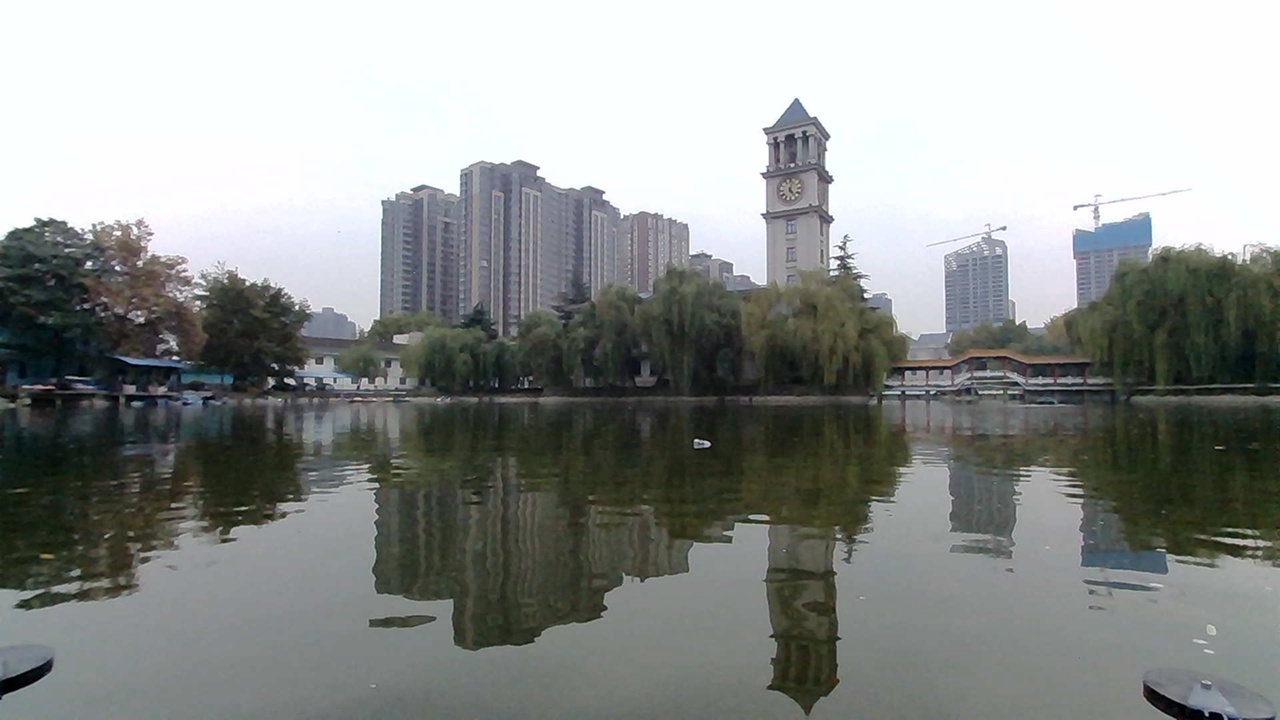bottle: (685, 426, 724, 456)
